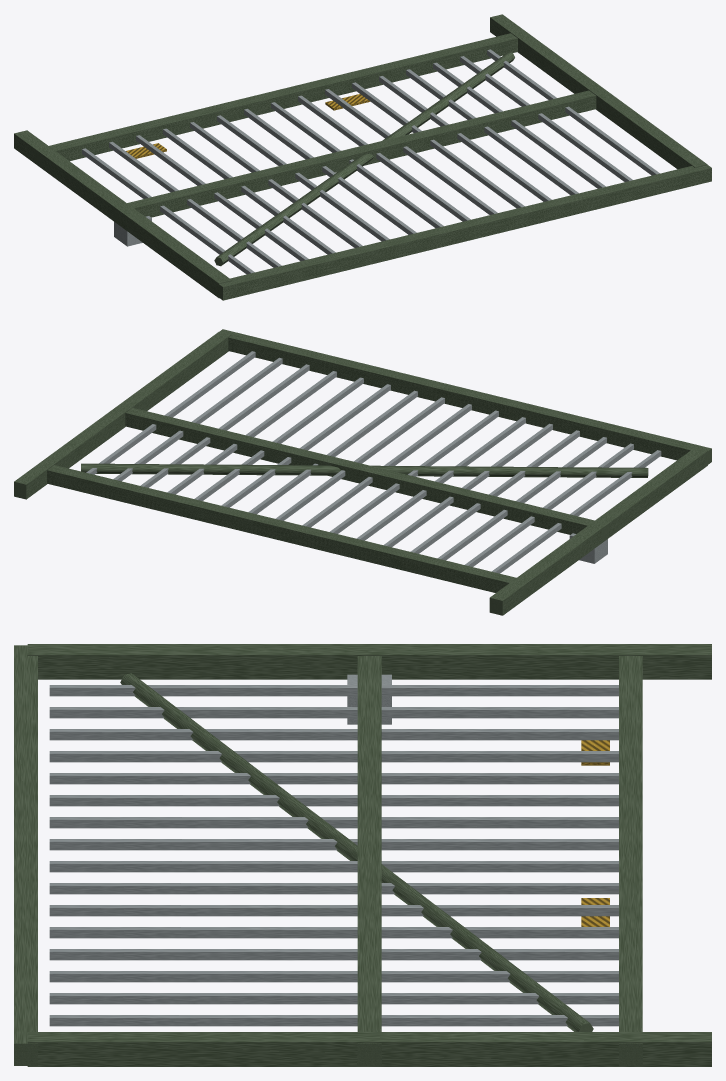
File: Gate_Leaf_RIGHT_3m.glb
3 views of the same model, one above another, from view 1: azimuth 30°, elevation 25°; view 2: azimuth 150°, elevation 25°; view 3: azimuth 270°, elevation 25° (orthographic). The views are drawn at different scales.
Visible parts, largest first — view 1: Gate_Leaf_RIGHT_3m__RIGHT_HORIZONTAL_RAIL_2.25, Gate_Leaf_RIGHT_3m__RIGHT_HORIZONTAL_RAIL_0.35, Gate_Leaf_RIGHT_3m__RIGHT_HORIZONTAL_RAIL_1.17, Gate_Leaf_RIGHT_3m__RIGHT_UPRIGHT_TIP, Gate_Leaf_RIGHT_3m__RIGHT_UPRIGHT_HINGE, Gate_Leaf_RIGHT_3m__RIGHT_CORNER_BRACE, Gate_Leaf_RIGHT_3m__RIGHT_SECURITY_BAR_08, Gate_Leaf_RIGHT_3m__RIGHT_SECURITY_BAR_07, Gate_Leaf_RIGHT_3m__RIGHT_SECURITY_BAR_02, Gate_Leaf_RIGHT_3m__RIGHT_SECURITY_BAR_12, Gate_Leaf_RIGHT_3m__RIGHT_SECURITY_BAR_01, Gate_Leaf_RIGHT_3m__RIGHT_SECURITY_BAR_03 (+10 smaller); view 2: Gate_Leaf_RIGHT_3m__RIGHT_HORIZONTAL_RAIL_0.35, Gate_Leaf_RIGHT_3m__RIGHT_HORIZONTAL_RAIL_2.25, Gate_Leaf_RIGHT_3m__RIGHT_HORIZONTAL_RAIL_1.17, Gate_Leaf_RIGHT_3m__RIGHT_UPRIGHT_TIP, Gate_Leaf_RIGHT_3m__RIGHT_UPRIGHT_HINGE, Gate_Leaf_RIGHT_3m__RIGHT_CORNER_BRACE, Gate_Leaf_RIGHT_3m__RIGHT_SECURITY_BAR_08, Gate_Leaf_RIGHT_3m__RIGHT_SECURITY_BAR_09, Gate_Leaf_RIGHT_3m__RIGHT_SECURITY_BAR_03, Gate_Leaf_RIGHT_3m__RIGHT_SECURITY_BAR_07, Gate_Leaf_RIGHT_3m__RIGHT_SECURITY_BAR_04, Gate_Leaf_RIGHT_3m__RIGHT_SECURITY_BAR_14 (+10 smaller); view 3: Gate_Leaf_RIGHT_3m__RIGHT_UPRIGHT_TIP, Gate_Leaf_RIGHT_3m__RIGHT_UPRIGHT_HINGE, Gate_Leaf_RIGHT_3m__RIGHT_HORIZONTAL_RAIL_1.17, Gate_Leaf_RIGHT_3m__RIGHT_HORIZONTAL_RAIL_2.25, Gate_Leaf_RIGHT_3m__RIGHT_HORIZONTAL_RAIL_0.35, Gate_Leaf_RIGHT_3m__RIGHT_CORNER_BRACE, Gate_Leaf_RIGHT_3m__RIGHT_SECURITY_BAR_08, Gate_Leaf_RIGHT_3m__RIGHT_SECURITY_BAR_09, Gate_Leaf_RIGHT_3m__RIGHT_SECURITY_BAR_01, Gate_Leaf_RIGHT_3m__RIGHT_SECURITY_BAR_15, Gate_Leaf_RIGHT_3m__RIGHT_SECURITY_BAR_02, Gate_Leaf_RIGHT_3m__RIGHT_SECURITY_BAR_03 (+10 smaller).
Part boxes in pixels (x1,y1,x2,y2): Gate_Leaf_RIGHT_3m__RIGHT_HORIZONTAL_RAIL_2.25: [216, 165, 711, 300]; Gate_Leaf_RIGHT_3m__RIGHT_HORIZONTAL_RAIL_0.35: [34, 33, 517, 167]; Gate_Leaf_RIGHT_3m__RIGHT_HORIZONTAL_RAIL_1.17: [113, 90, 596, 224]; Gate_Leaf_RIGHT_3m__RIGHT_UPRIGHT_TIP: [14, 130, 232, 298]; Gate_Leaf_RIGHT_3m__RIGHT_UPRIGHT_HINGE: [490, 14, 707, 169]; Gate_Leaf_RIGHT_3m__RIGHT_CORNER_BRACE: [214, 52, 514, 266]; Gate_Leaf_RIGHT_3m__RIGHT_SECURITY_BAR_08: [298, 95, 470, 221]; Gate_Leaf_RIGHT_3m__RIGHT_SECURITY_BAR_07: [325, 89, 497, 214]; Gate_Leaf_RIGHT_3m__RIGHT_SECURITY_BAR_02: [460, 56, 632, 181]; Gate_Leaf_RIGHT_3m__RIGHT_SECURITY_BAR_12: [190, 122, 362, 247]; Gate_Leaf_RIGHT_3m__RIGHT_SECURITY_BAR_01: [487, 49, 659, 175]; Gate_Leaf_RIGHT_3m__RIGHT_SECURITY_BAR_03: [433, 62, 605, 188]; Gate_Leaf_RIGHT_3m__RIGHT_HORIZONTAL_RAIL_0.35: [47, 465, 527, 599]; Gate_Leaf_RIGHT_3m__RIGHT_HORIZONTAL_RAIL_2.25: [220, 329, 711, 466]; Gate_Leaf_RIGHT_3m__RIGHT_HORIZONTAL_RAIL_1.17: [125, 407, 608, 542]; Gate_Leaf_RIGHT_3m__RIGHT_UPRIGHT_TIP: [489, 447, 707, 615]; Gate_Leaf_RIGHT_3m__RIGHT_UPRIGHT_HINGE: [14, 331, 231, 499]; Gate_Leaf_RIGHT_3m__RIGHT_CORNER_BRACE: [81, 463, 648, 477]; Gate_Leaf_RIGHT_3m__RIGHT_SECURITY_BAR_08: [275, 397, 444, 520]; Gate_Leaf_RIGHT_3m__RIGHT_SECURITY_BAR_09: [302, 404, 471, 527]; Gate_Leaf_RIGHT_3m__RIGHT_SECURITY_BAR_03: [140, 364, 309, 487]; Gate_Leaf_RIGHT_3m__RIGHT_SECURITY_BAR_07: [248, 390, 417, 514]; Gate_Leaf_RIGHT_3m__RIGHT_SECURITY_BAR_04: [167, 371, 336, 494]; Gate_Leaf_RIGHT_3m__RIGHT_SECURITY_BAR_14: [437, 437, 606, 560]; Gate_Leaf_RIGHT_3m__RIGHT_UPRIGHT_TIP: [27, 644, 711, 679]; Gate_Leaf_RIGHT_3m__RIGHT_UPRIGHT_HINGE: [27, 1032, 711, 1066]; Gate_Leaf_RIGHT_3m__RIGHT_HORIZONTAL_RAIL_1.17: [357, 656, 381, 1065]; Gate_Leaf_RIGHT_3m__RIGHT_HORIZONTAL_RAIL_2.25: [14, 645, 37, 1065]; Gate_Leaf_RIGHT_3m__RIGHT_HORIZONTAL_RAIL_0.35: [619, 656, 642, 1065]; Gate_Leaf_RIGHT_3m__RIGHT_CORNER_BRACE: [120, 673, 593, 1031]; Gate_Leaf_RIGHT_3m__RIGHT_SECURITY_BAR_08: [49, 861, 618, 872]; Gate_Leaf_RIGHT_3m__RIGHT_SECURITY_BAR_09: [49, 839, 618, 850]; Gate_Leaf_RIGHT_3m__RIGHT_SECURITY_BAR_01: [49, 1015, 618, 1026]; Gate_Leaf_RIGHT_3m__RIGHT_SECURITY_BAR_15: [49, 707, 618, 718]; Gate_Leaf_RIGHT_3m__RIGHT_SECURITY_BAR_02: [49, 993, 618, 1004]; Gate_Leaf_RIGHT_3m__RIGHT_SECURITY_BAR_03: [49, 971, 618, 982].
Bounding box in the file's own units: 2.96 × 0.198 × 2.19.
3 materials, 3 textured.
